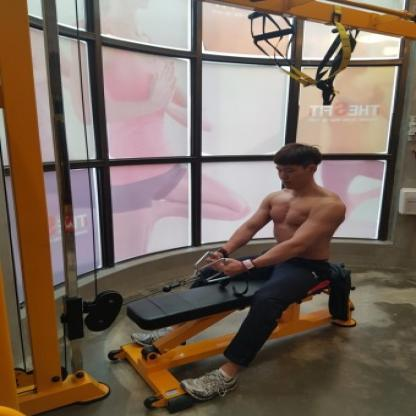Seated Cable Rows: (0, 9, 362, 416)
